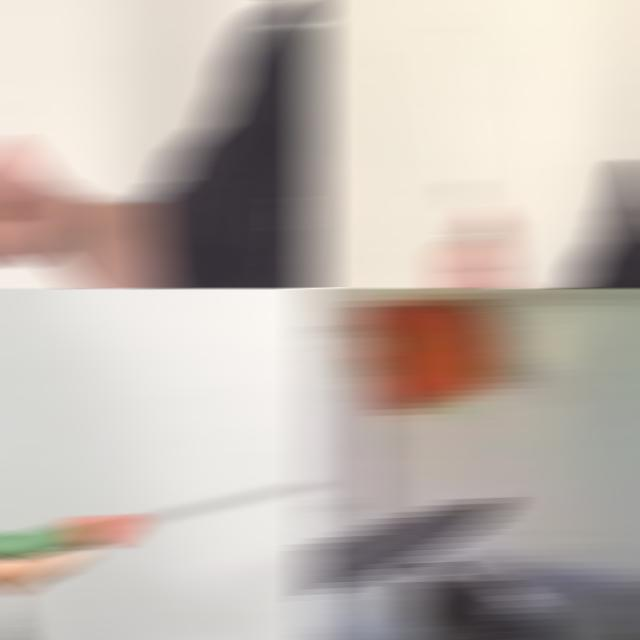Knife: (0, 479, 323, 561)
Knife_Handle: (303, 495, 511, 640), (430, 28, 511, 288)
